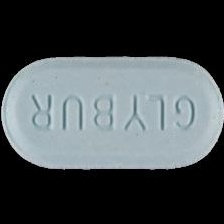0093-9364: (0, 0, 224, 224)
